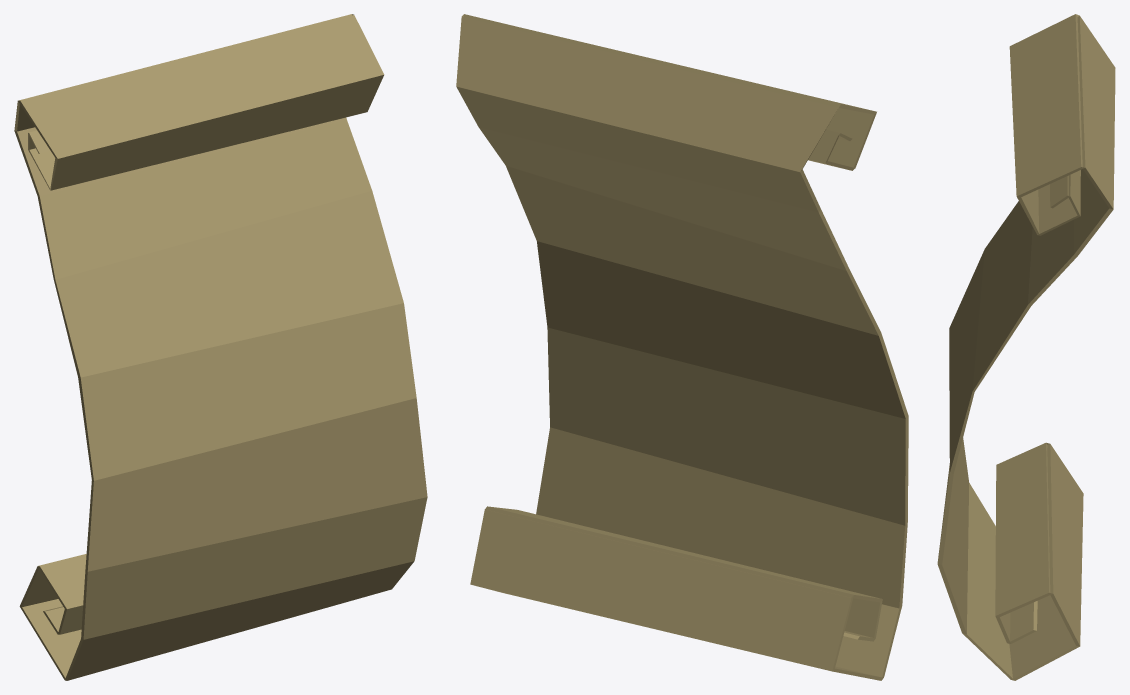
File: pergamena.fbx
3 renders of one model, left to right at view 1: azimuth 30°, elevation 25°; view 2: azimuth 150°, elevation 25°; view 3: azimuth 270°, elevation 25°, orthographic. The views are drawn at different scales.
Visible parts, largest first — view 1: Point; view 2: Point; view 3: Point.
Part boxes in pixels (left/top/right/bottom): Point: left=14, top=14, right=427, bottom=680; Point: left=456, top=14, right=908, bottom=680; Point: left=937, top=14, right=1115, bottom=680.
Bounding box in the file's own units: 15.57 × 24.35 × 7.59.
